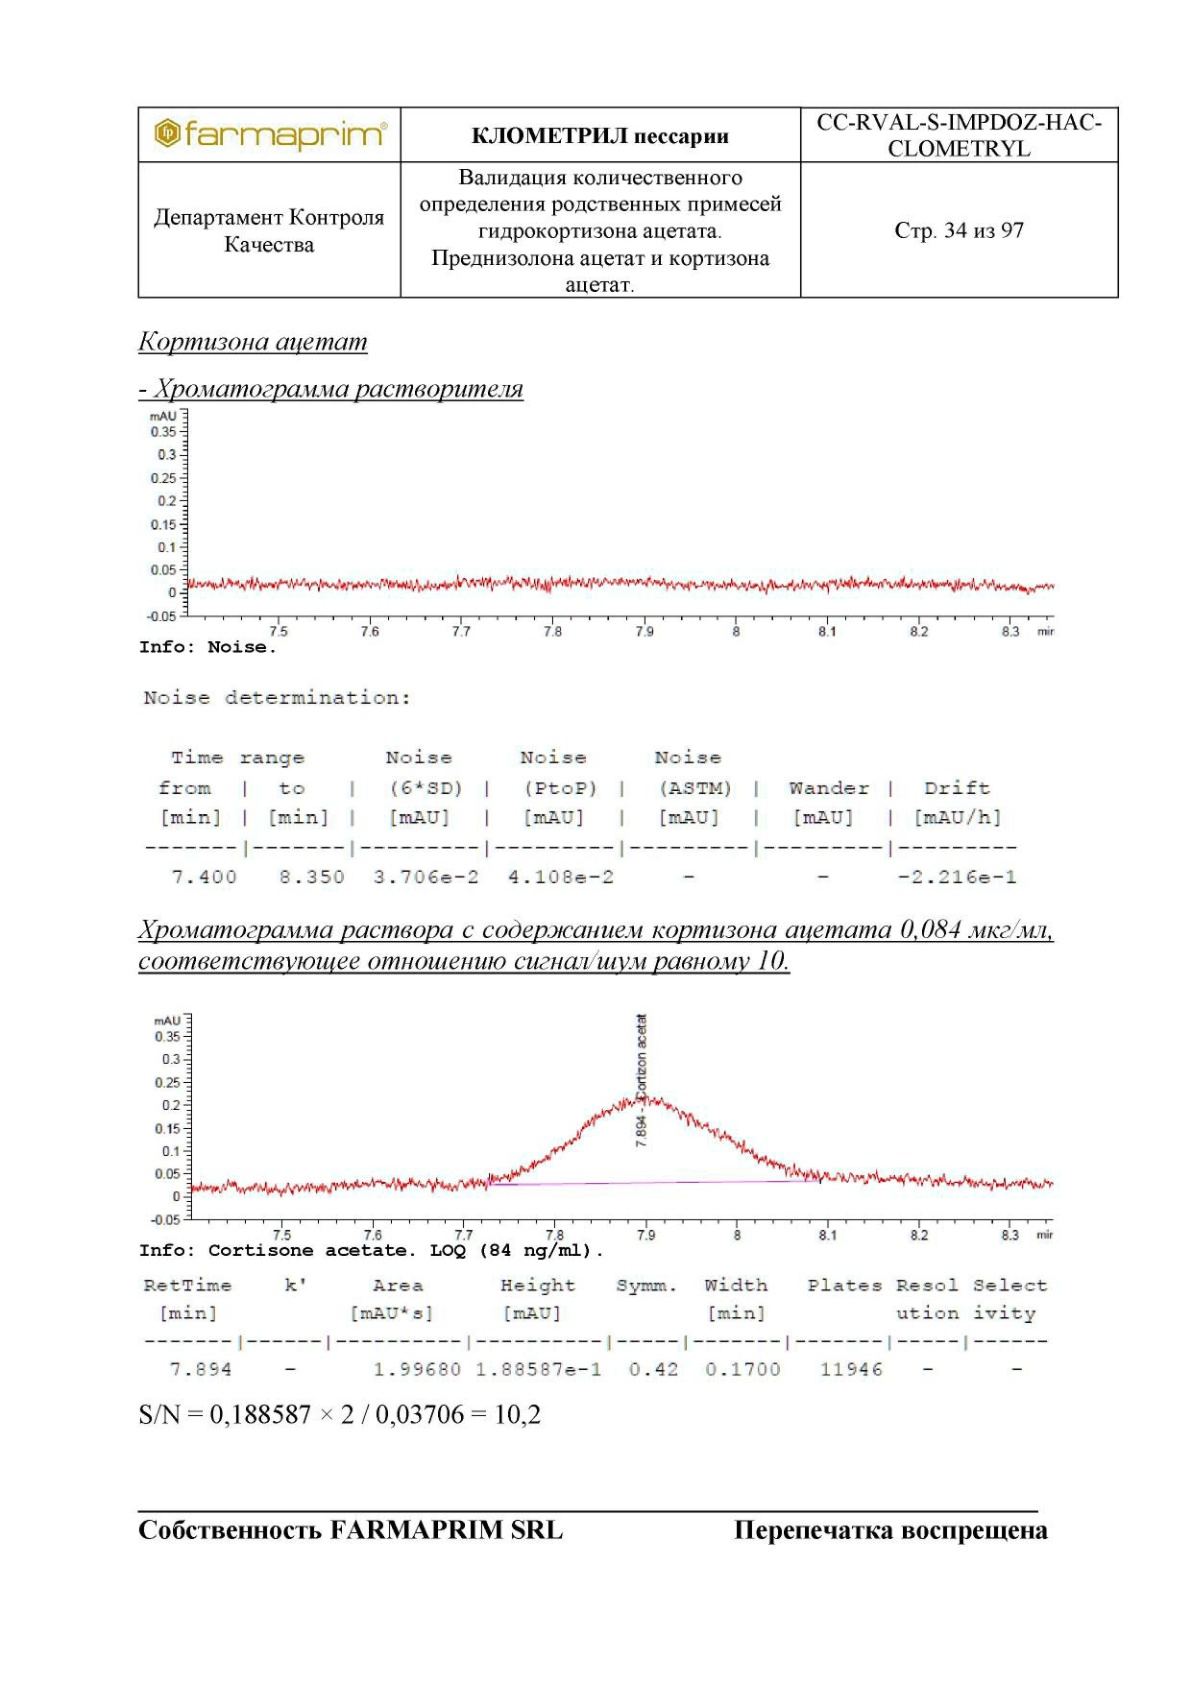full_lined: (135, 104, 1121, 299)
partial_lined: (144, 743, 1019, 894), (141, 1273, 1051, 1384)
